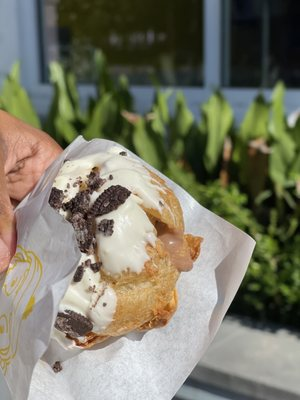curry: (113, 80, 300, 345)
